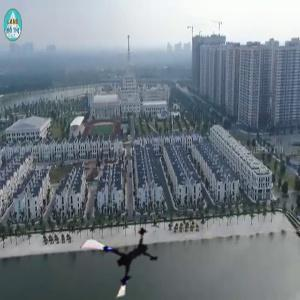drone: (87, 223, 164, 300)
